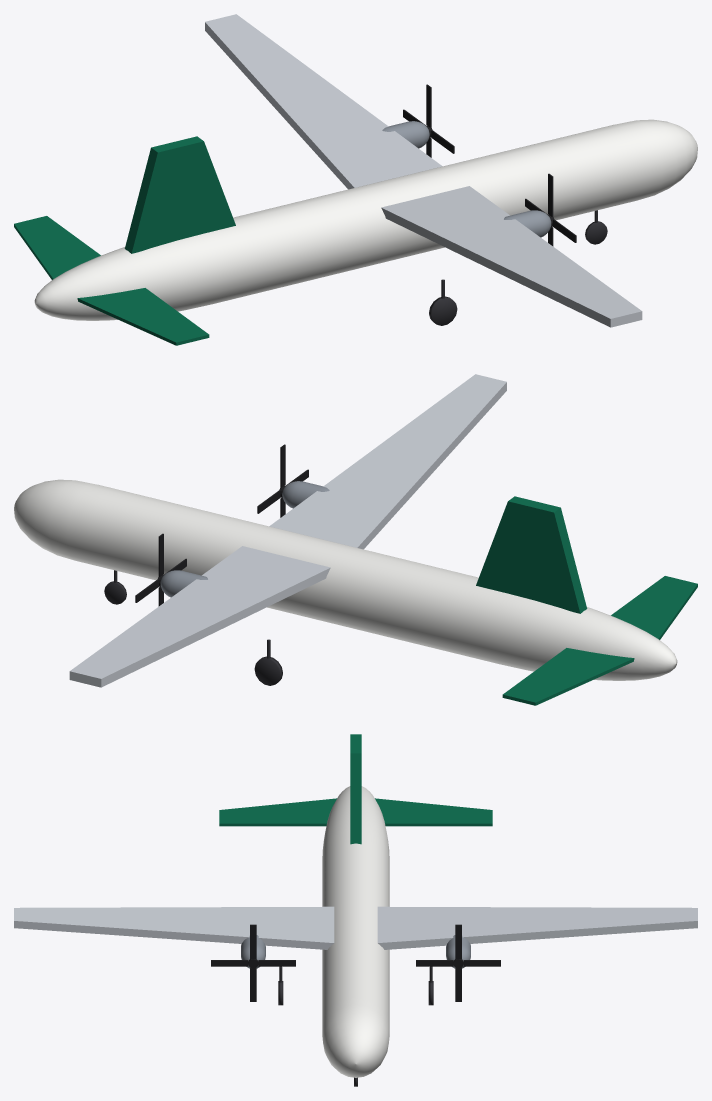
The picture shows the model from 3 angles, top to bottom: view 1: azimuth 30°, elevation 25°; view 2: azimuth 150°, elevation 25°; view 3: azimuth 270°, elevation 25°; orthographic projection. The views are drawn at different scales.
Parts seen in each view (by area): view 1: fuselage, wings, tail, propellers, engines, gear; view 2: fuselage, wings, tail, propellers, engines, gear; view 3: wings, fuselage, tail, propellers, engines.
Part boxes in pixels (<box>): fuselage: <box>34,119,697,320</box>; wings: <box>205,14,642,327</box>; tail: <box>14,136,235,345</box>; propellers: <box>403,84,576,246</box>; engines: <box>382,121,551,237</box>; gear: <box>429,210,607,325</box>; fuselage: <box>14,479,677,680</box>; wings: <box>69,374,506,687</box>; tail: <box>476,496,697,705</box>; propellers: <box>135,444,308,606</box>; engines: <box>160,481,329,597</box>; gear: <box>104,570,282,685</box>; wings: <box>14,906,697,949</box>; fuselage: <box>322,786,389,1077</box>; tail: <box>219,734,492,844</box>; propellers: <box>211,924,500,1001</box>; engines: <box>241,935,470,968</box>.
Size of the model in its own units: 25.7 by 7.49 by 27.4.
